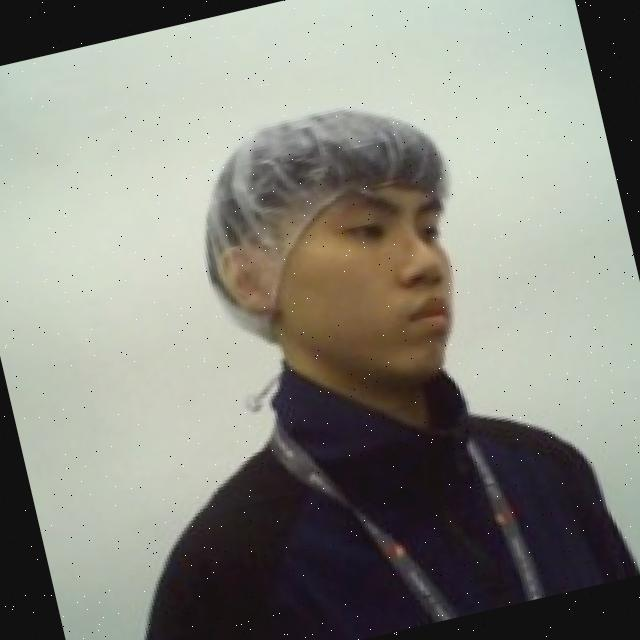gloves: (164, 80, 475, 322)
no_hairnet: (215, 196, 480, 420)
